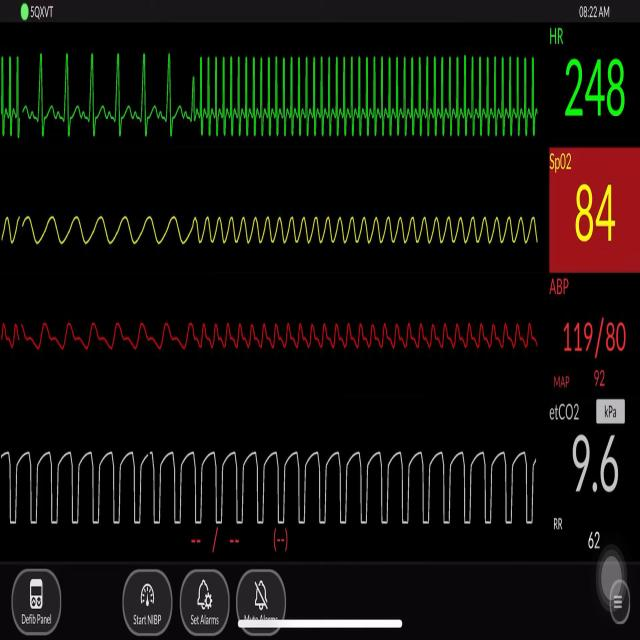danger: (190, 39, 540, 148), (3, 40, 30, 151)
